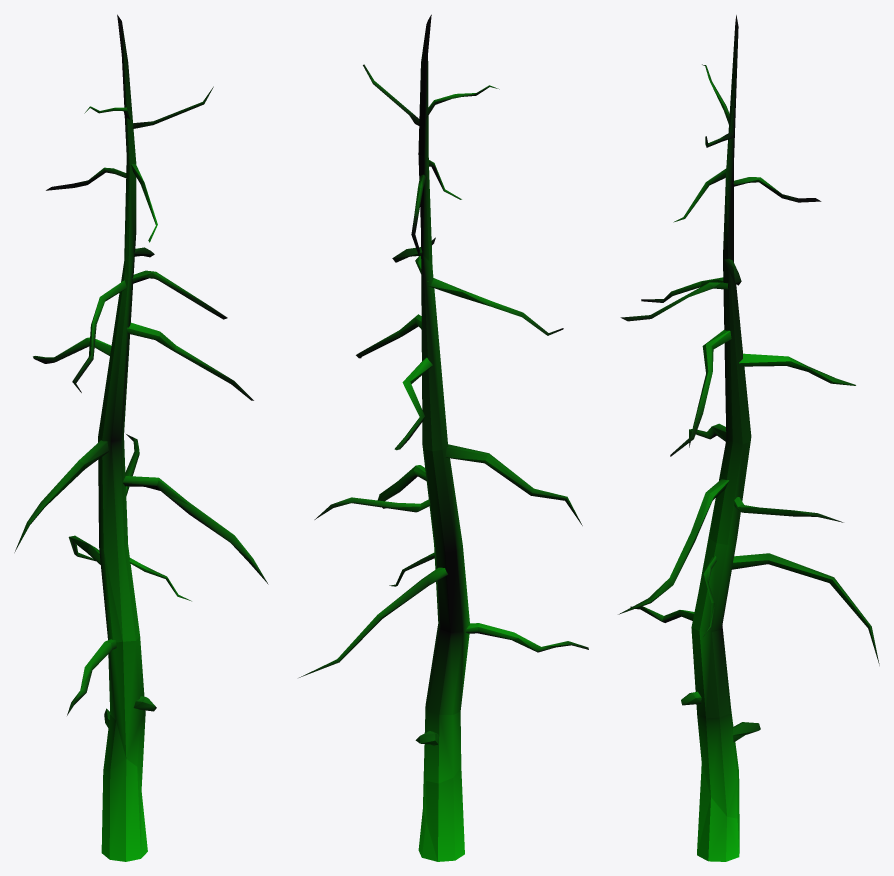
The model's file is SM_Collision_PineLeafySnow02.fbx.
The picture shows the model from 3 angles, left to right: view 1: azimuth 30°, elevation 25°; view 2: azimuth 150°, elevation 25°; view 3: azimuth 270°, elevation 25°; orthographic projection.
Parts seen in each view (by area): view 1: SM_Collision_PineLeafySnow02; view 2: SM_Collision_PineLeafySnow02; view 3: SM_Collision_PineLeafySnow02.
Boxes of the visible parts, <box> form: SM_Collision_PineLeafySnow02: <box>14,14,268,861</box>; SM_Collision_PineLeafySnow02: <box>299,14,588,861</box>; SM_Collision_PineLeafySnow02: <box>618,15,879,861</box>.
Bounding box in the file's own units: 477 × 1642 × 466.
